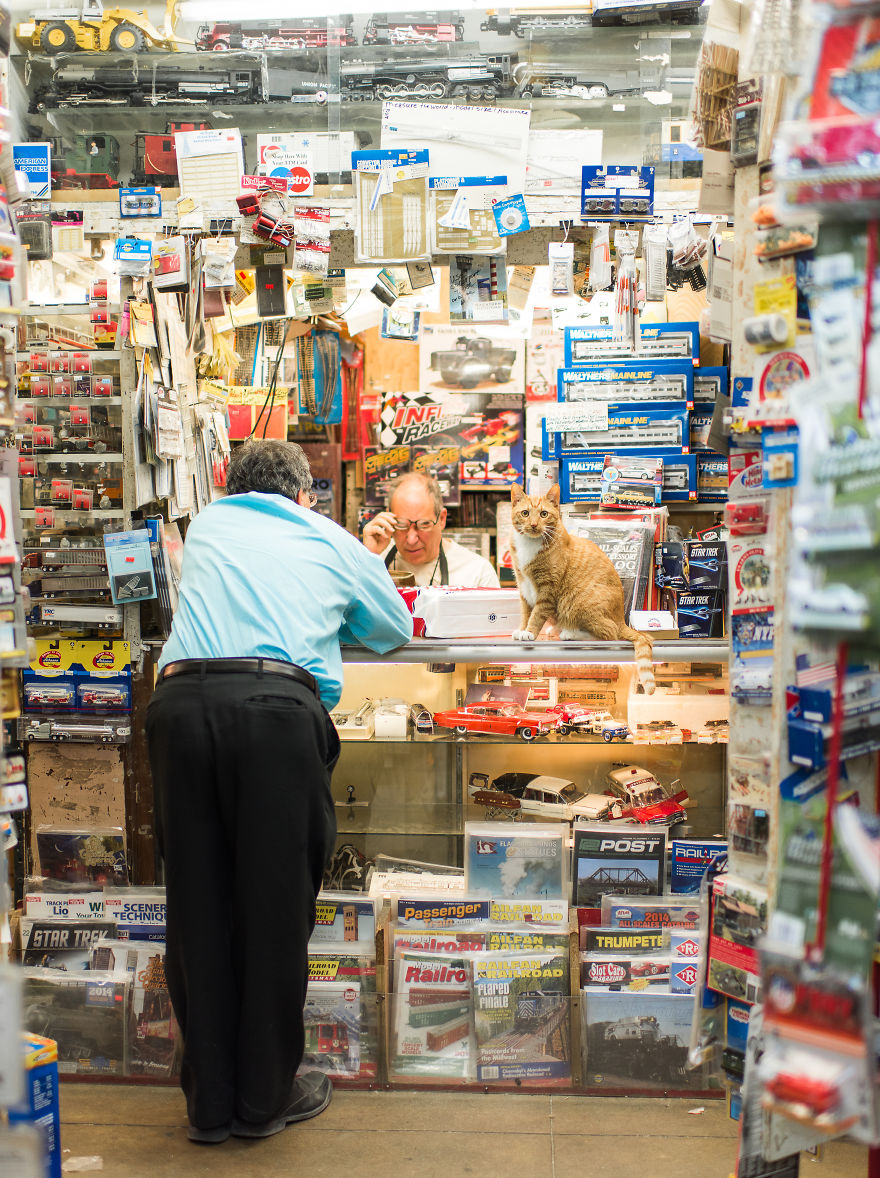Age_above_50: (389, 479, 449, 564)
E_White: (389, 479, 449, 564)
Emotion_Neutral: (389, 479, 449, 564)
G_Male: (389, 479, 449, 564)
Not_Face: (232, 443, 321, 513), (513, 493, 555, 536)
